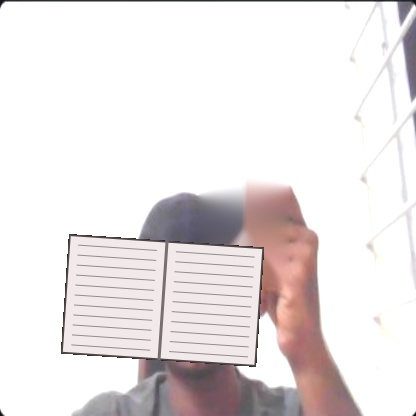book: (61, 234, 264, 367)
